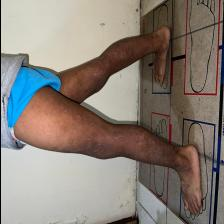DA: (127, 135, 183, 163)
